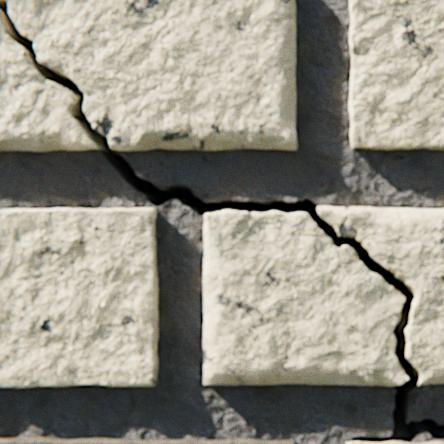brick: (0, 208, 158, 387), (349, 0, 443, 149), (0, 436, 295, 443), (346, 440, 443, 443)
broken_brick: (0, 0, 297, 151), (204, 210, 407, 385), (317, 206, 443, 384), (0, 10, 100, 151)
crack: (0, 2, 443, 441)
